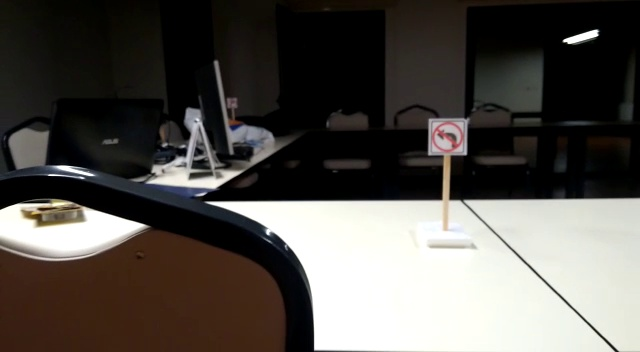sola_donulmez: (431, 117, 469, 154)
